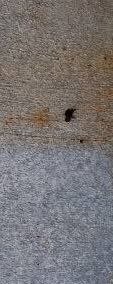Spalling: (63, 106, 77, 122)
